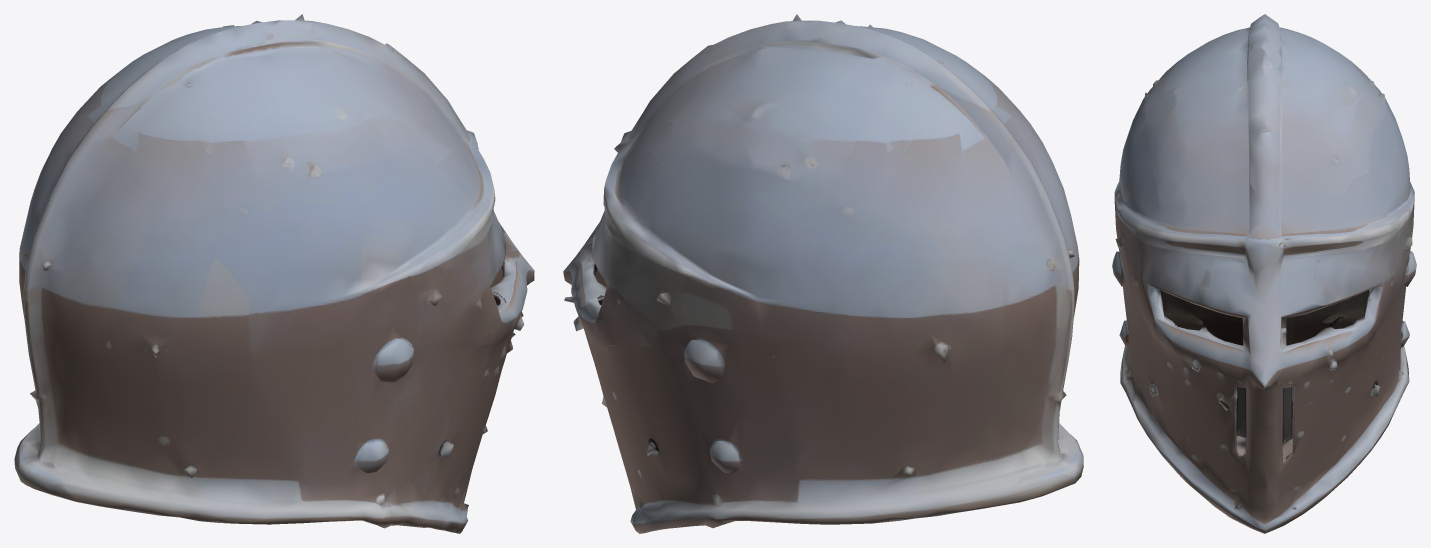
The model's file is knight_helmet.glb.
The picture shows the model from 3 angles, left to right: view 1: azimuth 30°, elevation 25°; view 2: azimuth 150°, elevation 25°; view 3: azimuth 270°, elevation 25°; orthographic projection. The views are drawn at different scales.
Parts seen in each view (by area): view 1: tripo_node_6bf04974-0426-4167-b140-940b336f1360; view 2: tripo_node_6bf04974-0426-4167-b140-940b336f1360; view 3: tripo_node_6bf04974-0426-4167-b140-940b336f1360.
Boxes of the visible parts, left/top/right/bottom form: tripo_node_6bf04974-0426-4167-b140-940b336f1360: left=14, top=14, right=534, bottom=533; tripo_node_6bf04974-0426-4167-b140-940b336f1360: left=563, top=14, right=1083, bottom=533; tripo_node_6bf04974-0426-4167-b140-940b336f1360: left=1112, top=14, right=1416, bottom=533.
Size of the model in its own units: 0.977 by 0.9988 by 0.6548.
1 material, 1 textured.
